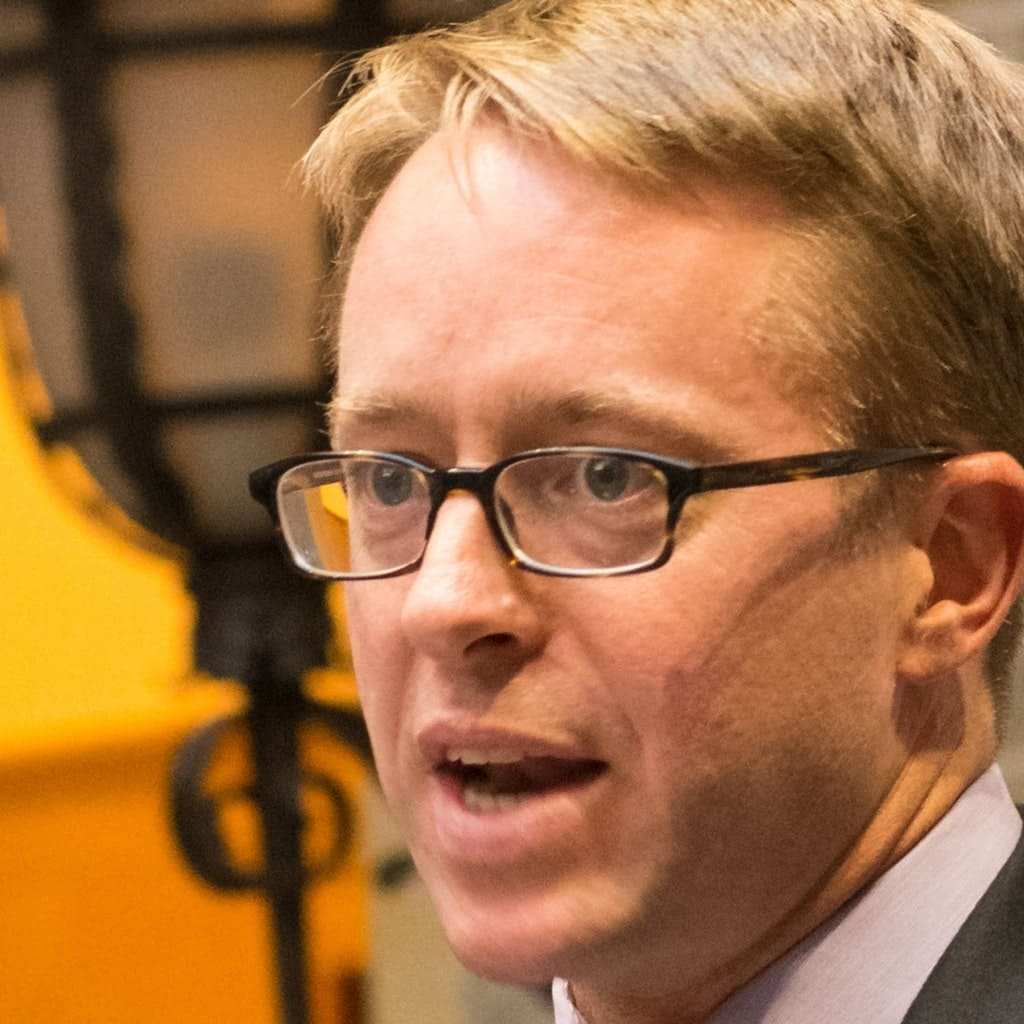without_mask: (342, 126, 915, 968)
